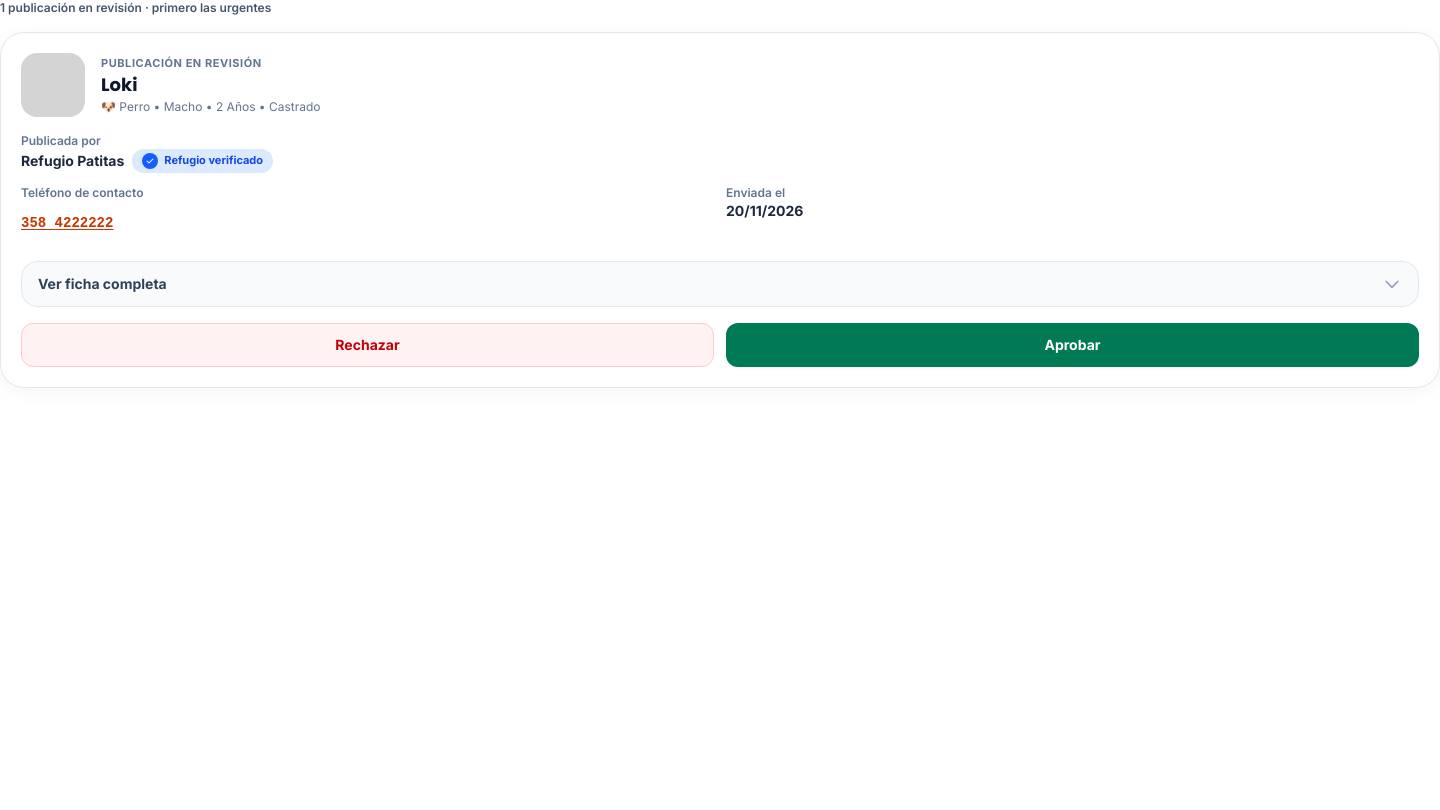
Test: PetReviewQueue › rechaza sin motivo y avisa cuál se guarda por defecto
Click the button "Rechazar": coordinates (368, 345) [21,323,714,367]
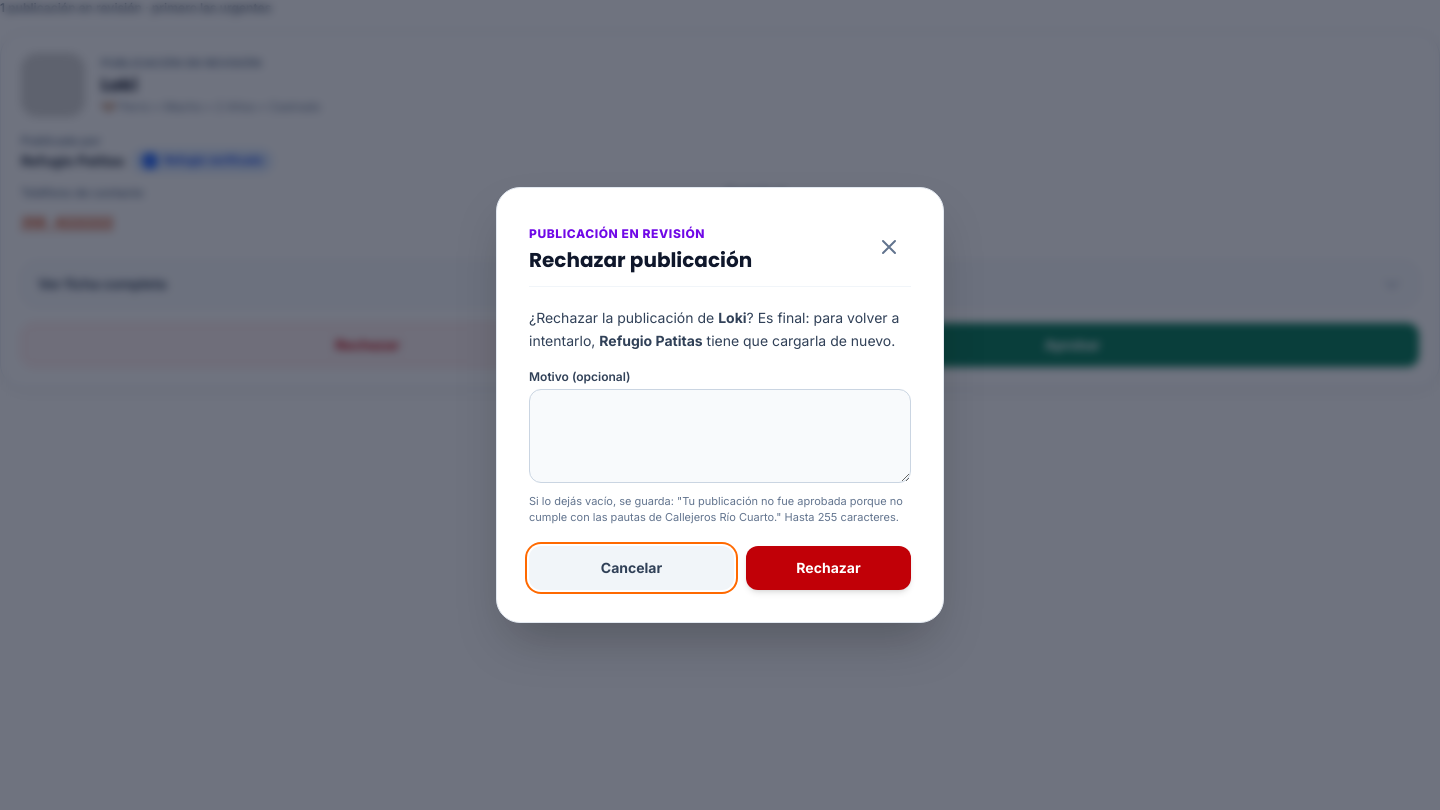
Expected: the dialog shows "¿Rechazar la publicación de Loki? Es final: para volver a intentarlo, Refugio Patitas tiene que cargarla de nuevo."
Expected: the dialog shows "Tu publicación no fue aprobada porque no cumple con las pautas de Callejeros Río Cuarto.", [529,494,903,524]
Click the button "Rechazar": coordinates (828, 568) [746,546,911,590]
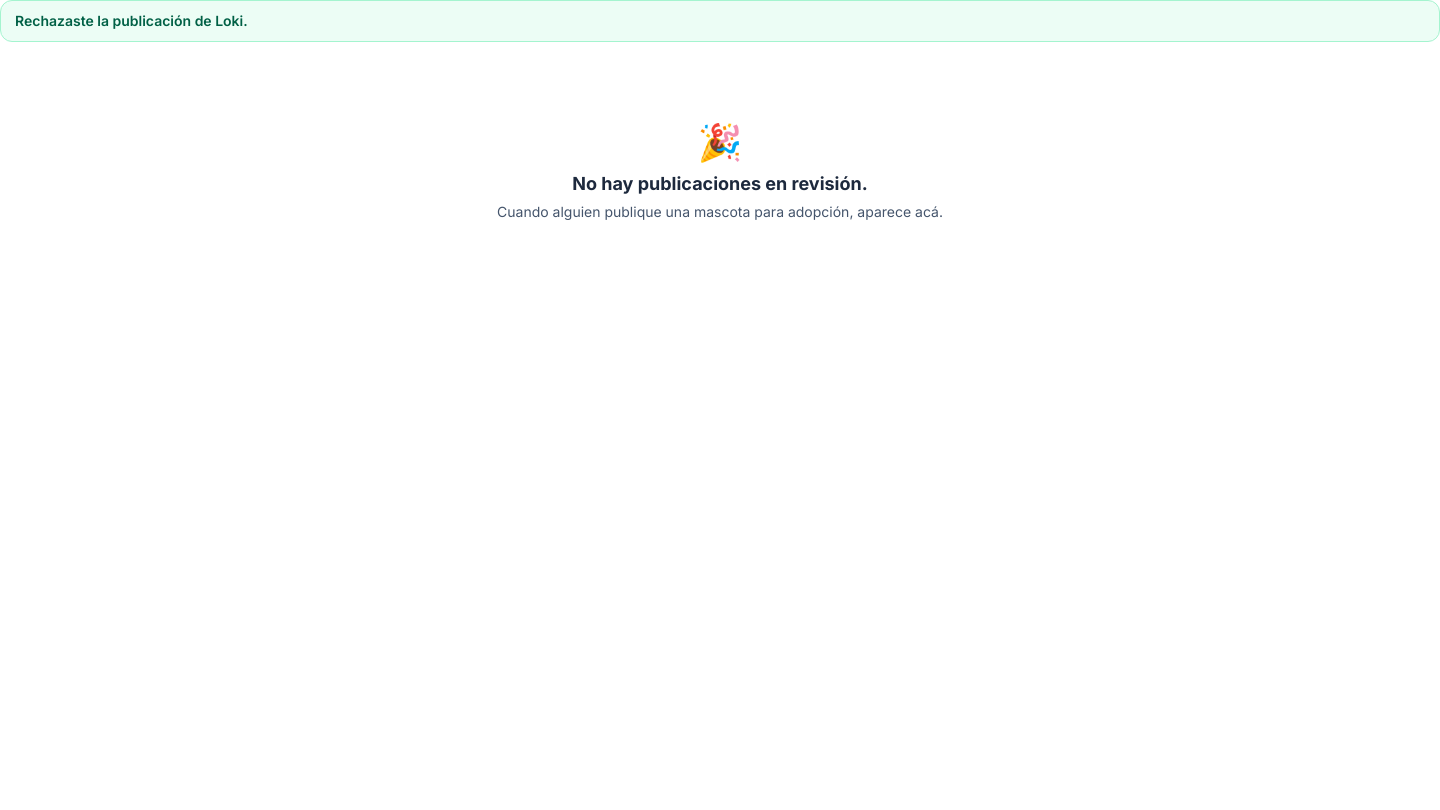
Expected: the text "Rechazaste la publicación de Loki." is shown, [0,0,1439,42]
